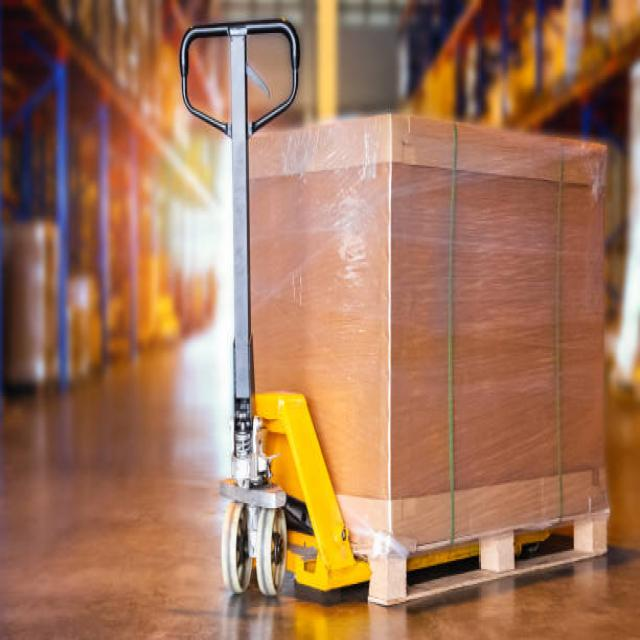Wooden-Pallets: (375, 507, 614, 612)
